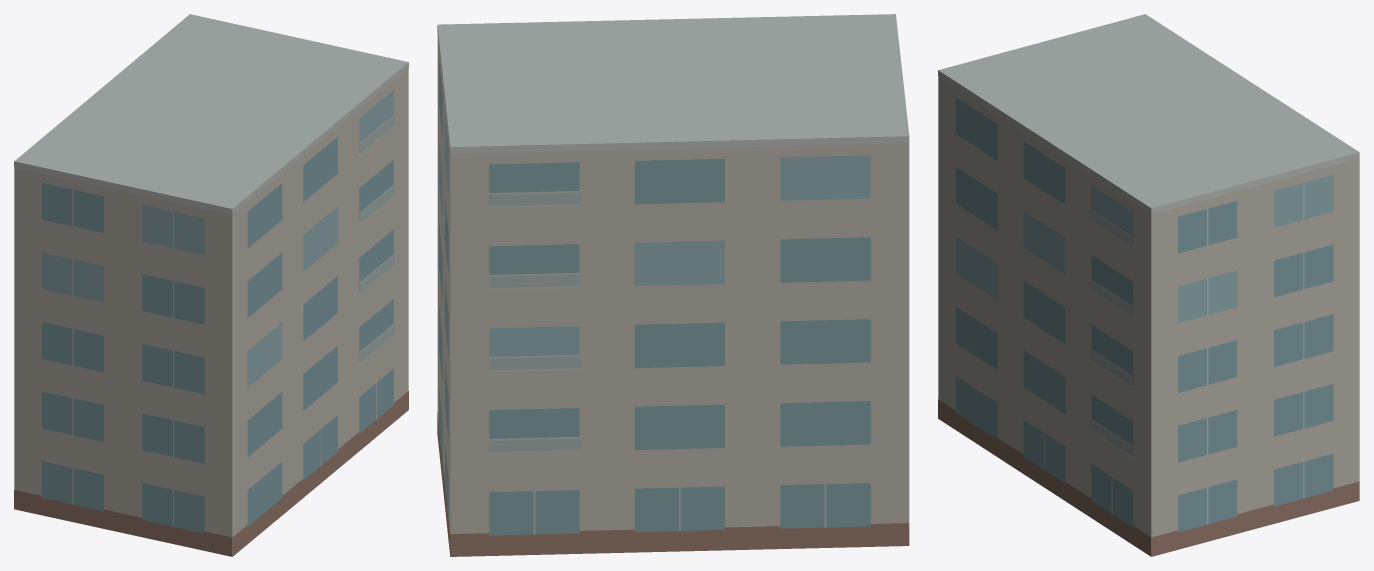
Rendered from survey-upis-32536465.glb.
The picture shows the model from 3 angles, left to right: view 1: azimuth 30°, elevation 25°; view 2: azimuth 150°, elevation 25°; view 3: azimuth 270°, elevation 25°; orthographic projection. The views are drawn at different scales.
Visible parts, largest first — view 1: survey-upis-32536465.tmp; view 2: survey-upis-32536465.tmp; view 3: survey-upis-32536465.tmp.
Part boxes in pixels (x1=…): survey-upis-32536465.tmp: x1=14, y1=14, x2=408, y2=556; survey-upis-32536465.tmp: x1=437, y1=14, x2=909, y2=556; survey-upis-32536465.tmp: x1=938, y1=14, x2=1359, y2=556.
Bounding box in the file's own units: 16.75 × 14 × 15.35.
